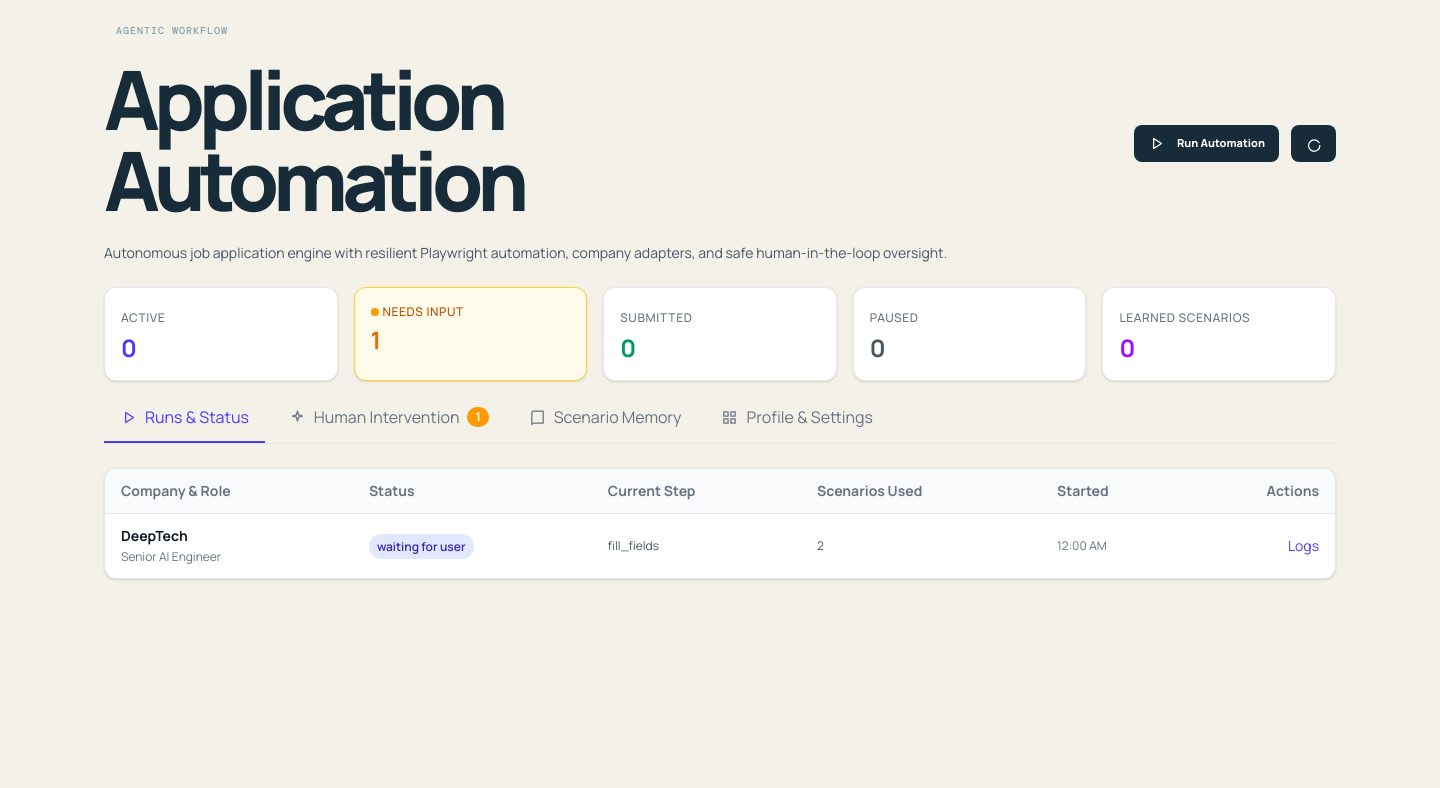
Scenario: AutomationDashboard › navigates to Profile & Settings and renders candidate details
This screenshot has width=1440, height=788.
Click the button "Profile & Settings" at (797, 424), box [706, 405, 889, 443]
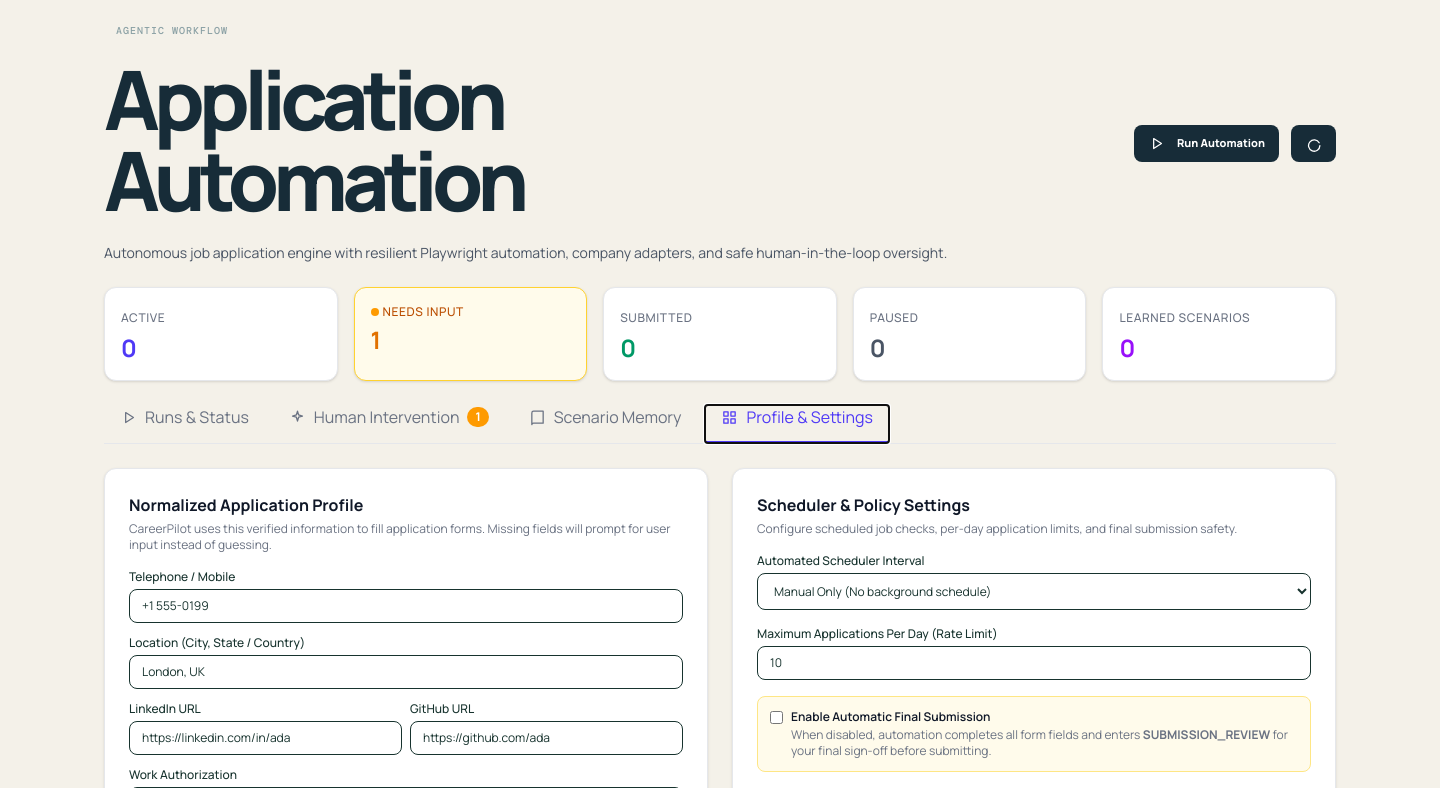
Expected: the field showing "+1 555-0199" below "Telephone / Mobile" is shown, [129, 589, 683, 623]
Expected: the field showing "London, UK" below "Location (City, State / Country)" is shown, [129, 655, 683, 689]
Expected: the field showing "https://linkedin.com/in/ada" below "LinkedIn URL" is shown, [129, 721, 402, 755]
